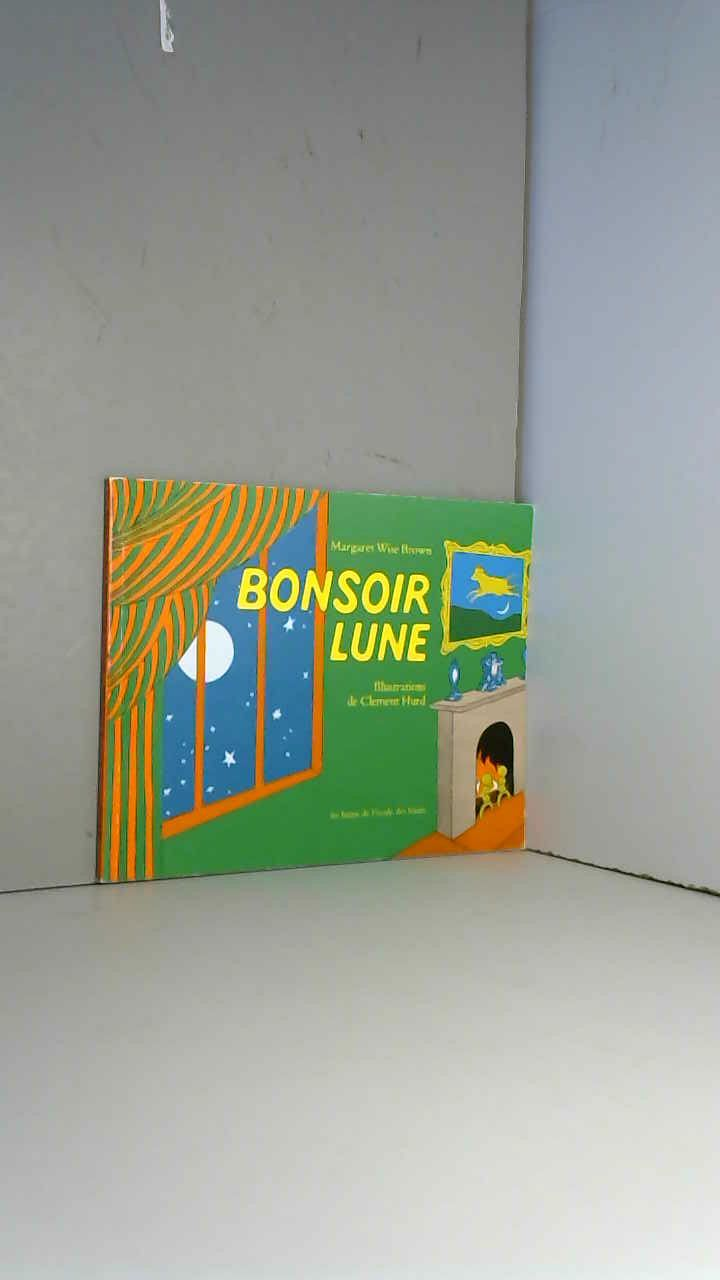book: (85, 458, 552, 899)
